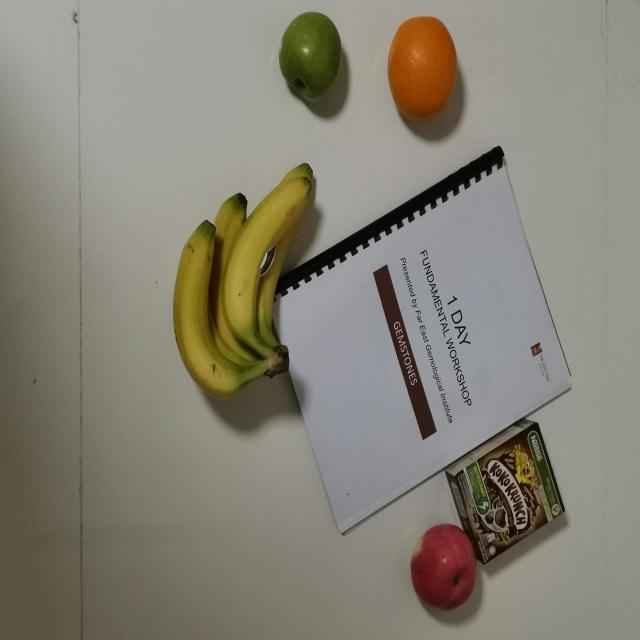Apple: (404, 522, 477, 622), (277, 7, 343, 107)
Banana: (169, 160, 313, 400)
Book: (260, 146, 580, 536)
Cerealbox: (448, 421, 564, 565)
Orange: (385, 14, 458, 122)
